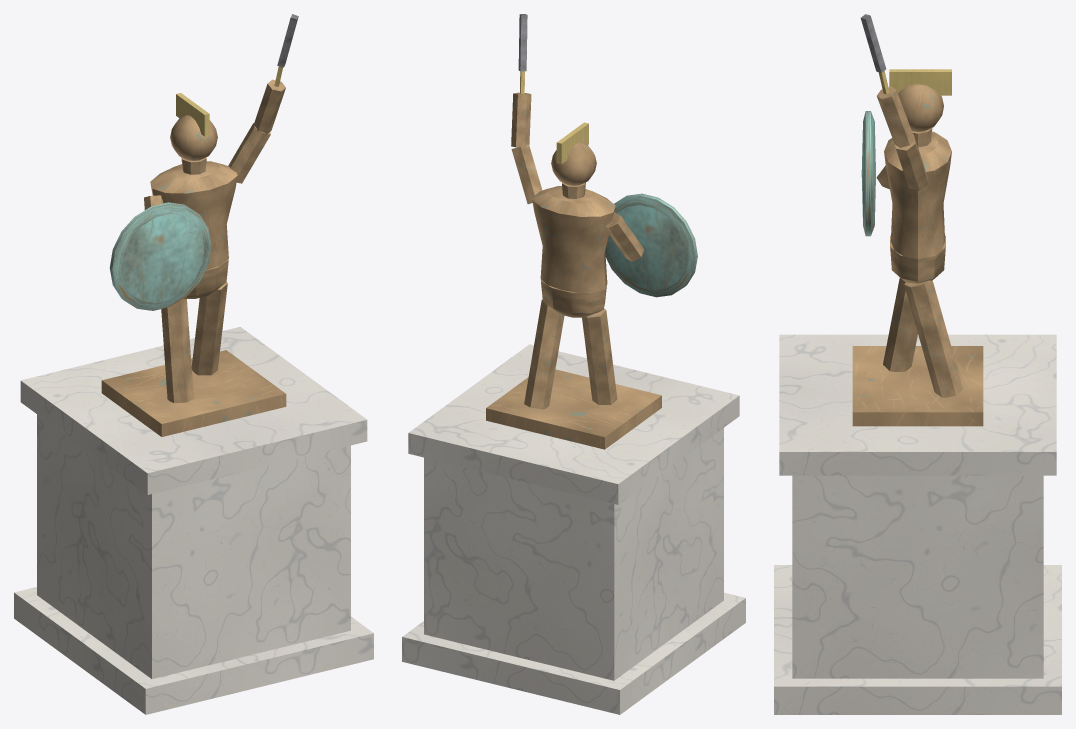
File: statue_plinth.glb
3 renders of one model, left to right at view 1: azimuth 30°, elevation 25°; view 2: azimuth 150°, elevation 25°; view 3: azimuth 270°, elevation 25°, orthographic. The views are drawn at different scales.
Parts seen in each view (by area): view 1: OUT; view 2: OUT; view 3: OUT.
Boxes of the visible parts, <box> form: OUT: <box>14,14,373,714</box>; OUT: <box>402,14,745,714</box>; OUT: <box>774,14,1061,714</box>.
Bounding box in the file's own units: 1.1 × 2.86 × 1.1.
Materials: 5 (5 with a texture image).
